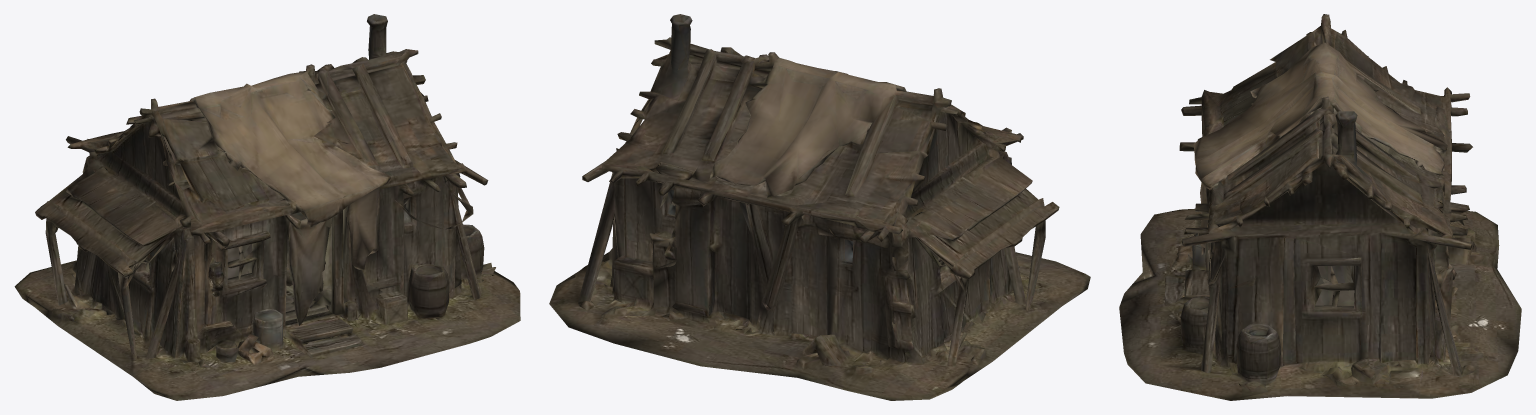
The model's file is SM_Work_Shed.glb.
The picture shows the model from 3 angles, left to right: view 1: azimuth 30°, elevation 25°; view 2: azimuth 150°, elevation 25°; view 3: azimuth 270°, elevation 25°; orthographic projection. The views are drawn at different scales.
Visible parts, largest first — view 1: Mesh_0; view 2: Mesh_0; view 3: Mesh_0.
Part boxes in pixels (left/top/right/bottom): Mesh_0: left=14, top=14, right=520, bottom=400; Mesh_0: left=549, top=14, right=1090, bottom=400; Mesh_0: left=1119, top=14, right=1521, bottom=400.
Bounding box in the file's own units: 4.18 × 2.5 × 3.68.
Materials: 1 (1 with a texture image).
